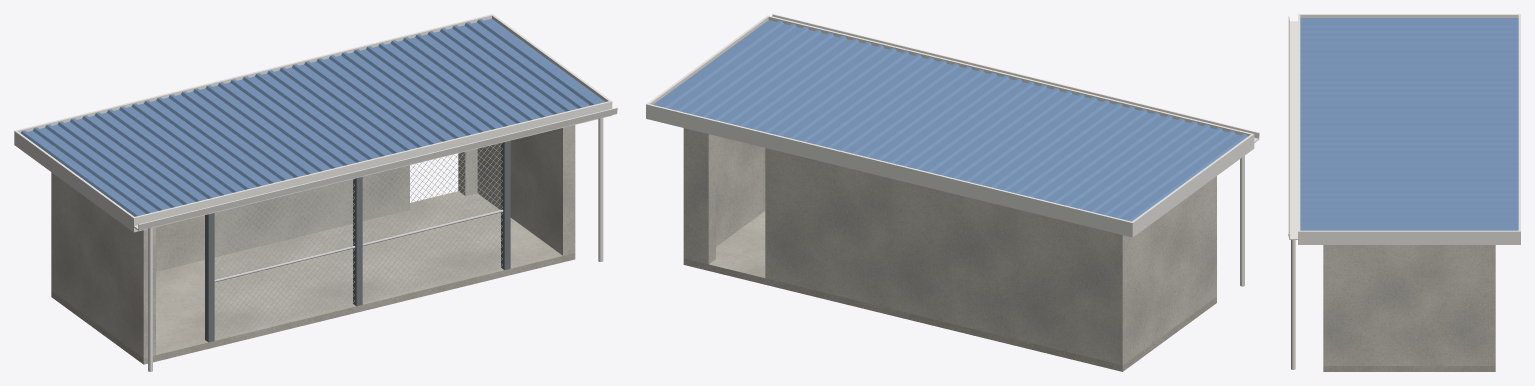
The model's file is dugout_b.glb.
3 views of the same model, side by side, from view 1: azimuth 30°, elevation 25°; view 2: azimuth 150°, elevation 25°; view 3: azimuth 270°, elevation 25° (orthographic). The views are drawn at different scales.
Parts seen in each view (by area): view 1: dugout_b_roof_b, dugout_b_block, dugout_b_concrete, dugout_b_trim_w, dugout_b_galv, dugout_b_steel_d; view 2: dugout_b_block, dugout_b_roof_b, dugout_b_trim_w, dugout_b_concrete; view 3: dugout_b_roof_b, dugout_b_block, dugout_b_trim_w, dugout_b_concrete.
Boxes of the visible parts, x1,y1,x2,y2 form: dugout_b_roof_b: (20, 18, 605, 216); dugout_b_block: (51, 125, 575, 357); dugout_b_concrete: (51, 191, 575, 364); dugout_b_trim_w: (14, 14, 617, 371); dugout_b_galv: (214, 142, 503, 337); dugout_b_steel_d: (205, 140, 510, 342); dugout_b_block: (683, 128, 1216, 365); dugout_b_roof_b: (653, 20, 1247, 221); dugout_b_trim_w: (646, 14, 1259, 286); dugout_b_concrete: (683, 211, 1216, 371); dugout_b_roof_b: (1300, 18, 1518, 230); dugout_b_block: (1323, 245, 1495, 365); dugout_b_trim_w: (1288, 14, 1520, 369); dugout_b_concrete: (1323, 366, 1495, 371).
Bounding box in the file's own units: 7.76 × 2.51 × 3.51.
11 materials, 4 textured.
